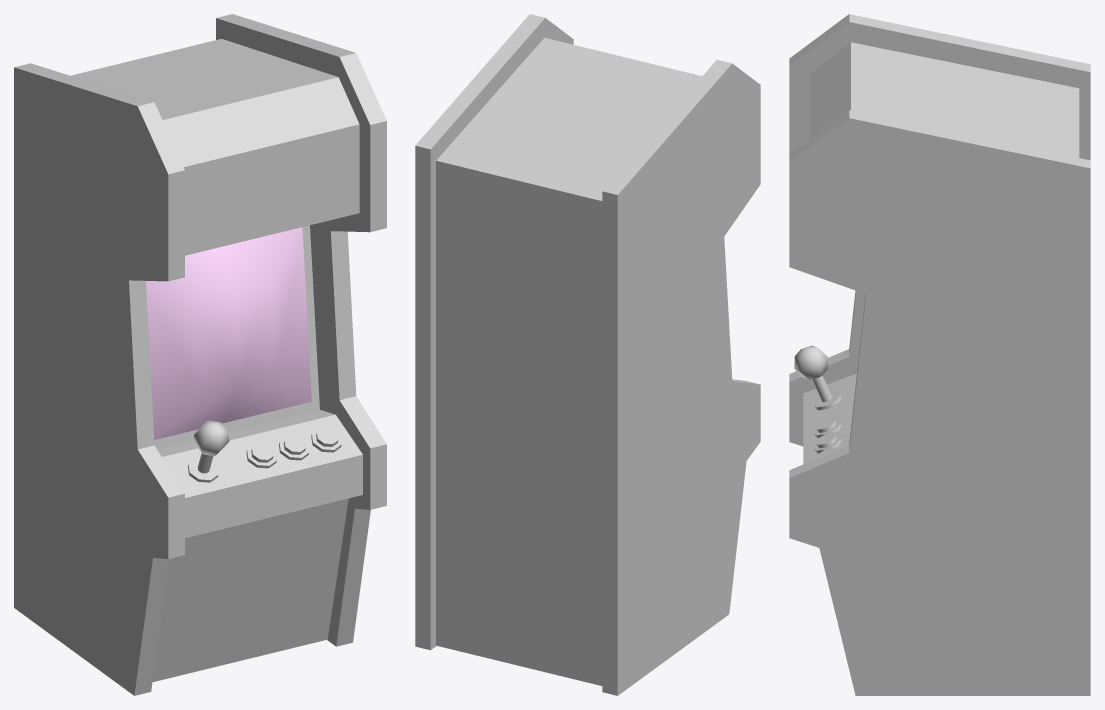
Rendered from ArcadeConsole_04.fbx.
3 renders of one model, left to right at view 1: azimuth 30°, elevation 25°; view 2: azimuth 150°, elevation 25°; view 3: azimuth 270°, elevation 25°, orthographic. The views are drawn at different scales.
Visible parts, largest first — view 1: node_id7 (×2); view 2: node_id7; view 3: node_id7.
Part boxes in pixels (left/top/right/bottom): node_id7 (×2): left=14, top=14, right=386, bottom=695; node_id7: left=415, top=14, right=760, bottom=695; node_id7: left=789, top=14, right=1090, bottom=695.
Size of the model in its own units: 0.198 by 0.512 by 0.2419.
